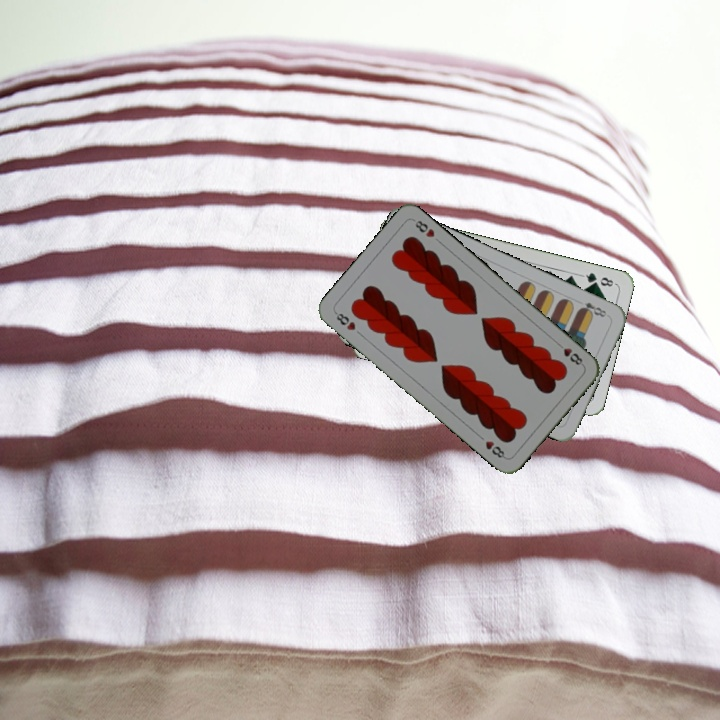E8: (575, 298, 611, 320)
G8: (578, 268, 618, 289)
H8: (552, 338, 586, 369), (331, 308, 358, 333)
